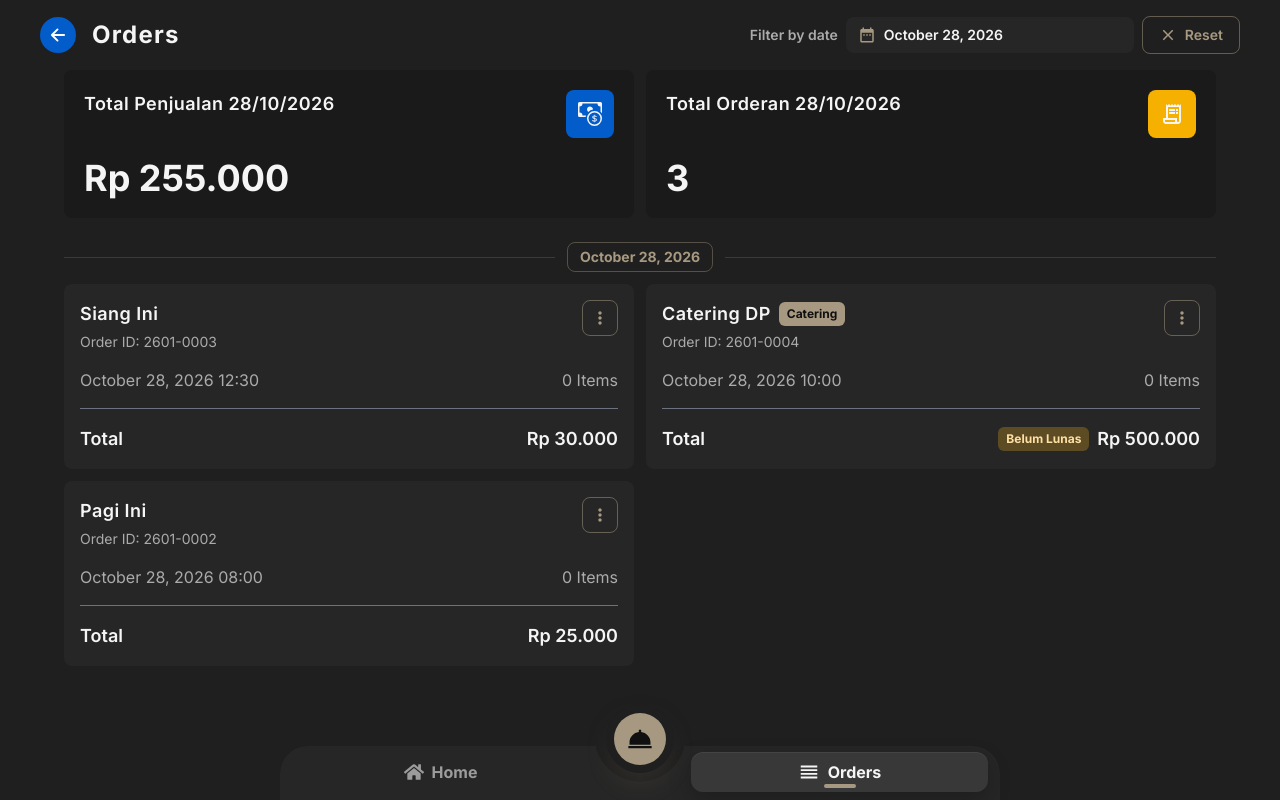
Test case: orders page › shows every order grouped by day after reset
What coordinates should you click on to do the following:
click the button "Reset"
I would click on:
 (1191, 35)
Its box is left=1142, top=16, right=1240, bottom=54.
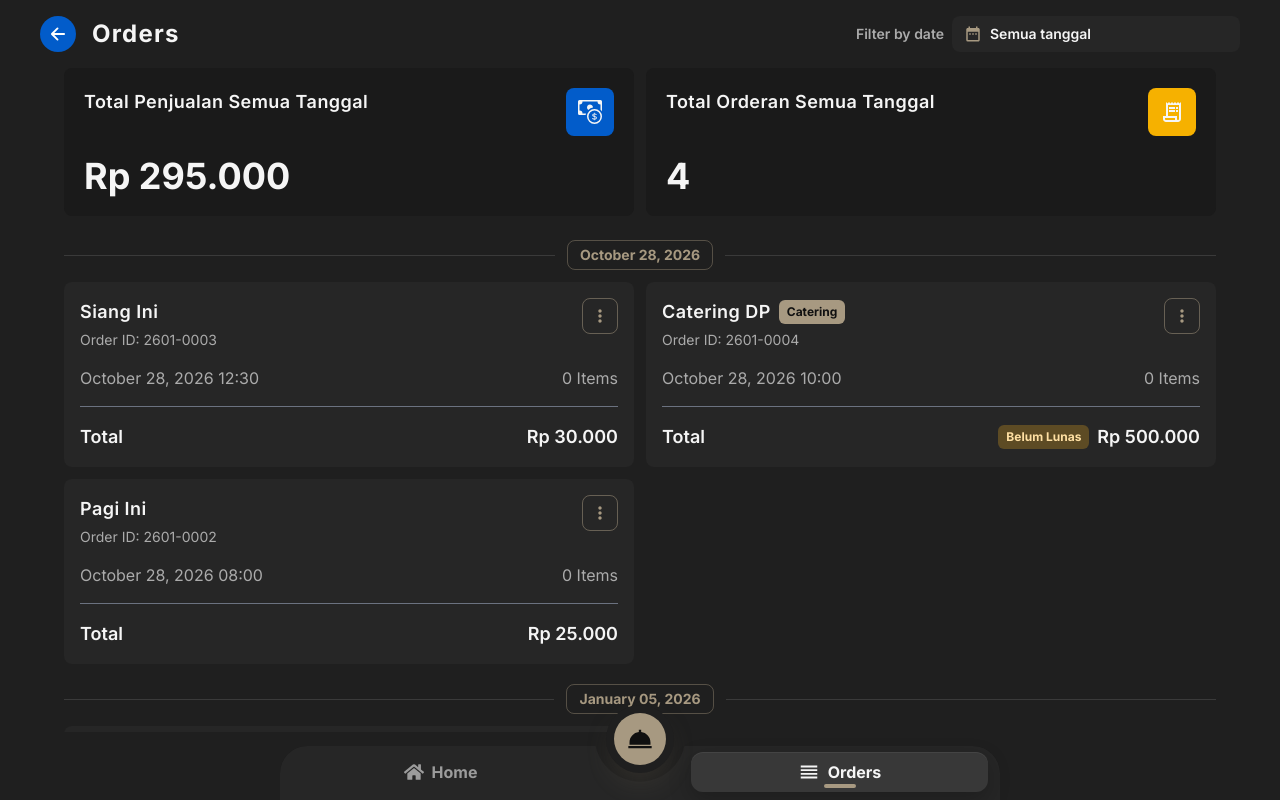
Now the heading "Total Penjualan Semua Tanggal" is shown, box left=84, top=88, right=368, bottom=116
Now the text "January 05, 2026" is shown, box left=566, top=684, right=714, bottom=714
Now the button "Reset" is gone
